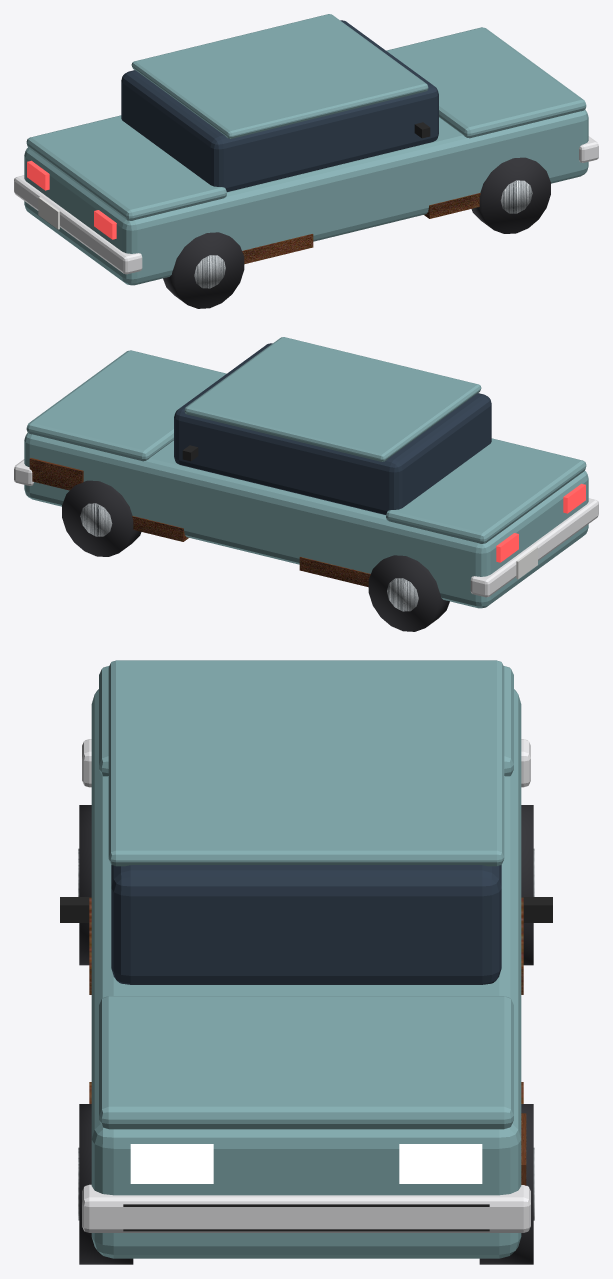
File: WK_HERO_Sedan86.glb
The picture shows the model from 3 angles, top to bottom: view 1: azimuth 30°, elevation 25°; view 2: azimuth 150°, elevation 25°; view 3: azimuth 270°, elevation 25°; orthographic projection. The views are drawn at different scales.
Visible parts, largest first — view 1: WK_HERO_Sedan86_P01, WK_HERO_Sedan86_P03, WK_HERO_Sedan86_P02, WK_HERO_Sedan86_P04, WK_HERO_Sedan86_P05, WK_HERO_Sedan86_P08, WK_HERO_Sedan86_P12, WK_HERO_Sedan86_P07, WK_HERO_Sedan86_P23, WK_HERO_Sedan86_P13, WK_HERO_Sedan86_P09, WK_HERO_Sedan86_P24 (+4 smaller); view 2: WK_HERO_Sedan86_P01, WK_HERO_Sedan86_P03, WK_HERO_Sedan86_P02, WK_HERO_Sedan86_P04, WK_HERO_Sedan86_P05, WK_HERO_Sedan86_P10, WK_HERO_Sedan86_P14, WK_HERO_Sedan86_P07, WK_HERO_Sedan86_P25, WK_HERO_Sedan86_P23, WK_HERO_Sedan86_P15, WK_HERO_Sedan86_P11 (+4 smaller); view 3: WK_HERO_Sedan86_P03, WK_HERO_Sedan86_P04, WK_HERO_Sedan86_P01, WK_HERO_Sedan86_P02, WK_HERO_Sedan86_P06, WK_HERO_Sedan86_P16, WK_HERO_Sedan86_P18, WK_HERO_Sedan86_P20, WK_HERO_Sedan86_P05, WK_HERO_Sedan86_P12, WK_HERO_Sedan86_P14, WK_HERO_Sedan86_P08 (+4 smaller).
Boxes of the visible parts, left/top/right/bottom form: WK_HERO_Sedan86_P01: left=24, top=110, right=588, bottom=285; WK_HERO_Sedan86_P03: left=131, top=14, right=428, bottom=138; WK_HERO_Sedan86_P02: left=121, top=20, right=438, bottom=191; WK_HERO_Sedan86_P04: left=386, top=27, right=586, bottom=138; WK_HERO_Sedan86_P05: left=26, top=115, right=226, bottom=220; WK_HERO_Sedan86_P08: left=163, top=232, right=244, bottom=308; WK_HERO_Sedan86_P12: left=471, top=157, right=550, bottom=233; WK_HERO_Sedan86_P07: left=14, top=175, right=142, bottom=274; WK_HERO_Sedan86_P23: left=242, top=234, right=313, bottom=264; WK_HERO_Sedan86_P13: left=500, top=180, right=532, bottom=213; WK_HERO_Sedan86_P09: left=194, top=255, right=225, bottom=288; WK_HERO_Sedan86_P24: left=424, top=193, right=480, bottom=218; WK_HERO_Sedan86_P01: left=24, top=433, right=588, bottom=608; WK_HERO_Sedan86_P03: left=184, top=337, right=481, bottom=461; WK_HERO_Sedan86_P02: left=174, top=343, right=491, bottom=514; WK_HERO_Sedan86_P04: left=26, top=350, right=226, bottom=461; WK_HERO_Sedan86_P05: left=386, top=438, right=586, bottom=543; WK_HERO_Sedan86_P10: left=368, top=555, right=449, bottom=631; WK_HERO_Sedan86_P14: left=62, top=480, right=141, bottom=556; WK_HERO_Sedan86_P07: left=470, top=498, right=598, bottom=597; WK_HERO_Sedan86_P25: left=29, top=458, right=83, bottom=490; WK_HERO_Sedan86_P23: left=299, top=557, right=370, bottom=587; WK_HERO_Sedan86_P15: left=80, top=503, right=112, bottom=536; WK_HERO_Sedan86_P11: left=387, top=578, right=418, bottom=611; WK_HERO_Sedan86_P03: left=108, top=660, right=504, bottom=866; WK_HERO_Sedan86_P04: left=99, top=996, right=513, bottom=1129; WK_HERO_Sedan86_P01: left=91, top=689, right=521, bottom=1258; WK_HERO_Sedan86_P02: left=111, top=865, right=501, bottom=984; WK_HERO_Sedan86_P06: left=82, top=1184, right=530, bottom=1232; WK_HERO_Sedan86_P16: left=130, top=1144, right=213, bottom=1183; WK_HERO_Sedan86_P18: left=399, top=1144, right=482, bottom=1183; WK_HERO_Sedan86_P20: left=123, top=1204, right=489, bottom=1231; WK_HERO_Sedan86_P05: left=99, top=666, right=513, bottom=776; WK_HERO_Sedan86_P12: left=79, top=1104, right=133, bottom=1264; WK_HERO_Sedan86_P14: left=479, top=1104, right=533, bottom=1264; WK_HERO_Sedan86_P08: left=79, top=805, right=91, bottom=965.
Size of the model in its own units: 4.52 by 1.48 by 2.02.
Materials: 10 (2 with a texture image).
